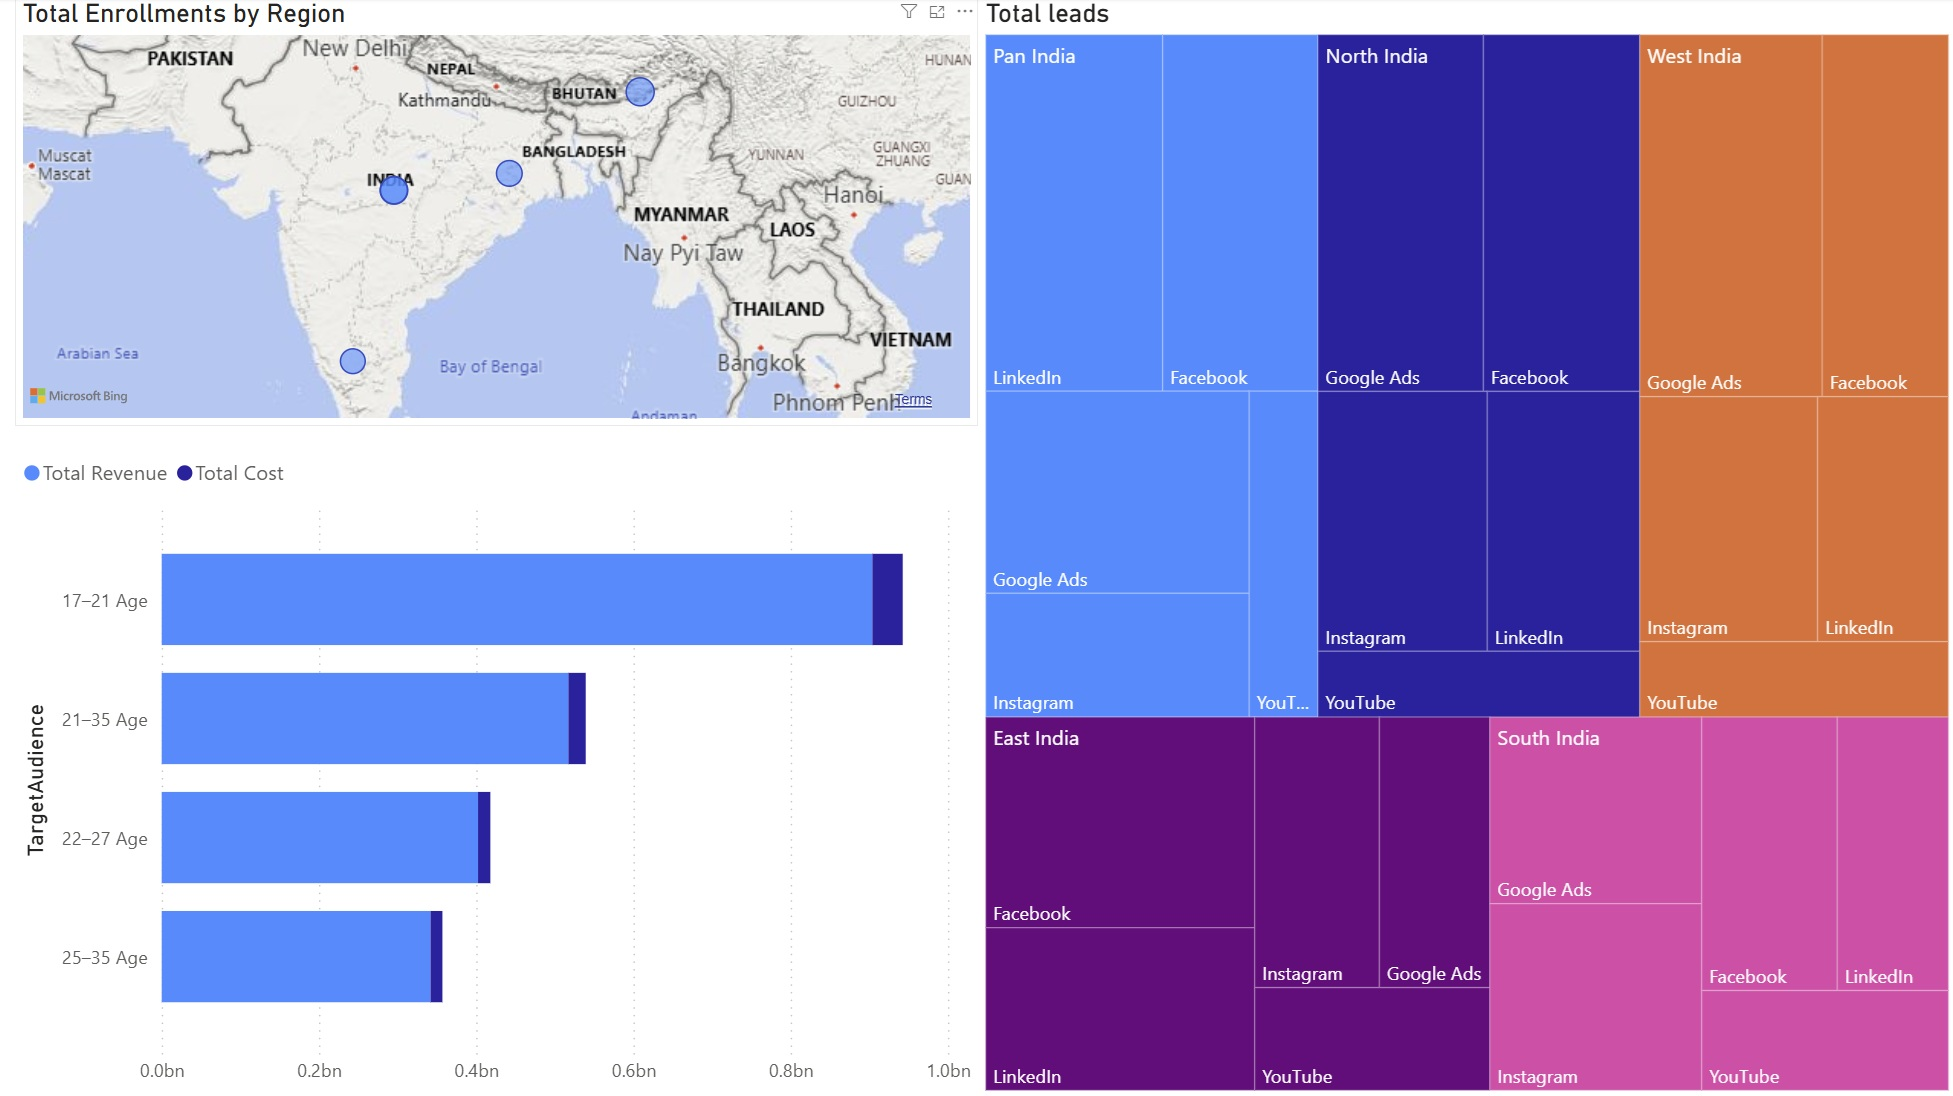

This screenshot's page, from the dashboard's own definition file:
{"tool":"powerbi","page":{"name":"AUDIENCE & GEOGRAPHIC INSIGHTS","canvas":[1280,720],"ordinal":3},"visuals":[{"type":"map","fields":{"Size":["_AllMeasures.Total Enrollments"],"Category":["public vw_cleanedperformance_advanced.Region"]},"box":[9.8,0,630.2,280.1],"z":0},{"type":"barChart","fields":{"Y":["_AllMeasures.Total Revenue","_AllMeasures.Total Cost"],"Category":["public vw_cleanedperformance_advanced.TargetAudience"]},"box":[9.9,290.2,630.5,429.7],"z":1000},{"type":"treemap","title":"Total leads","fields":{"Values":["_AllMeasures.Total Leads"],"Group":["public vw_cleanedperformance_advanced.Region"],"Details":["public vw_cleanedperformance_advanced.Platform"]},"box":[640,0,640,719.8],"z":2000}]}

Visuals, with their boxes in screenshot pixels (x1, y1, x2, y2), scaled from the page's 1280x720 canvas onto the 1953x1096 screenshot:
map - _AllMeasures.Total Enrollments x public vw_cleanedperformance_advanced.Region: select_region(15, 0, 976, 426)
barChart - _AllMeasures.Total Revenue x _AllMeasures.Total Cost: select_region(15, 442, 977, 1095)
"Total leads" treemap: select_region(976, 0, 1952, 1095)
